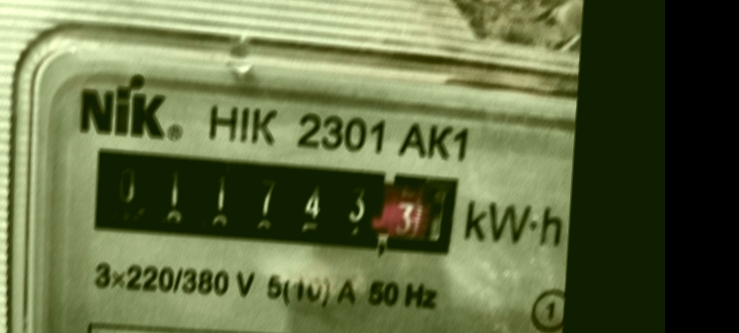0: (113, 165, 138, 205), (163, 167, 184, 209)
1: (210, 171, 228, 213)
3: (344, 182, 367, 226), (392, 198, 414, 237)
4: (299, 179, 322, 221)
7: (253, 173, 278, 219)
screen: (72, 135, 466, 267)
